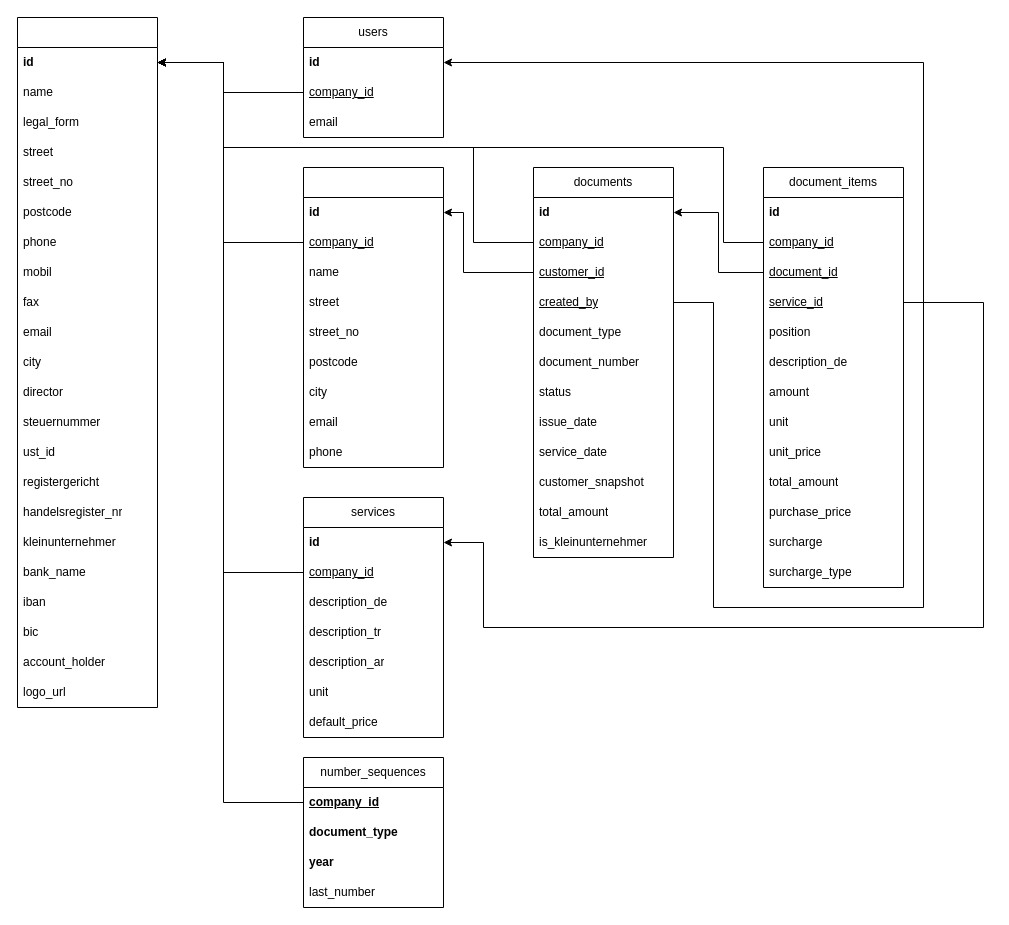
The diagram is 1009 pixels wide and 925 high, and some of its shapes have lost their labels. The box of each missing label's shape, as (x1, y1, x2, y2) in pixels:
companies: (16, 16, 158, 708)
customers: (302, 166, 444, 468)
